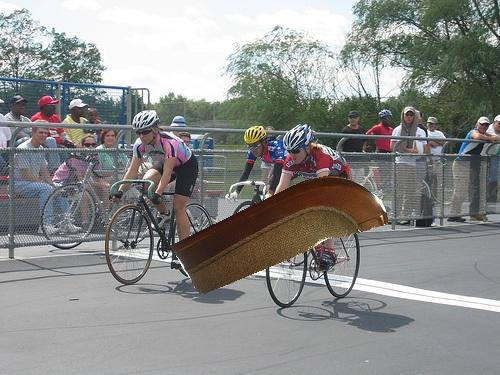tampered: (172, 176, 388, 294)
